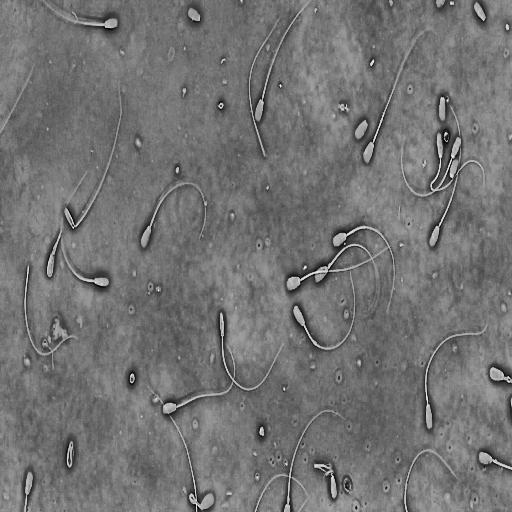coiled-tail: (46, 226, 64, 280), (314, 463, 333, 476), (52, 231, 62, 255), (188, 492, 201, 510), (66, 441, 73, 468)
dirt-particles: (127, 369, 137, 388), (258, 423, 266, 440), (443, 130, 450, 142)
distal-droplet: (313, 341, 320, 348)
folded-tail: (75, 81, 121, 228), (430, 158, 484, 191)
loose-head: (185, 2, 204, 25), (353, 117, 369, 144), (472, 0, 487, 24), (437, 93, 448, 125)
loose-tail: (141, 377, 199, 512), (246, 5, 285, 164), (21, 262, 82, 360), (401, 445, 462, 512), (253, 471, 312, 512)
normal: (361, 24, 436, 166), (62, 74, 124, 233), (252, 0, 313, 125), (424, 320, 490, 433), (60, 165, 111, 291), (331, 223, 397, 315), (160, 341, 237, 417), (284, 242, 394, 295), (218, 309, 285, 394), (292, 269, 358, 353), (427, 98, 463, 251), (138, 179, 208, 252), (399, 132, 462, 198), (429, 127, 486, 193), (313, 241, 381, 291), (39, 0, 122, 31), (311, 458, 339, 500), (477, 449, 512, 473), (188, 489, 216, 512), (23, 467, 36, 512), (64, 437, 76, 472)
proximal-droplet: (326, 262, 331, 269)
